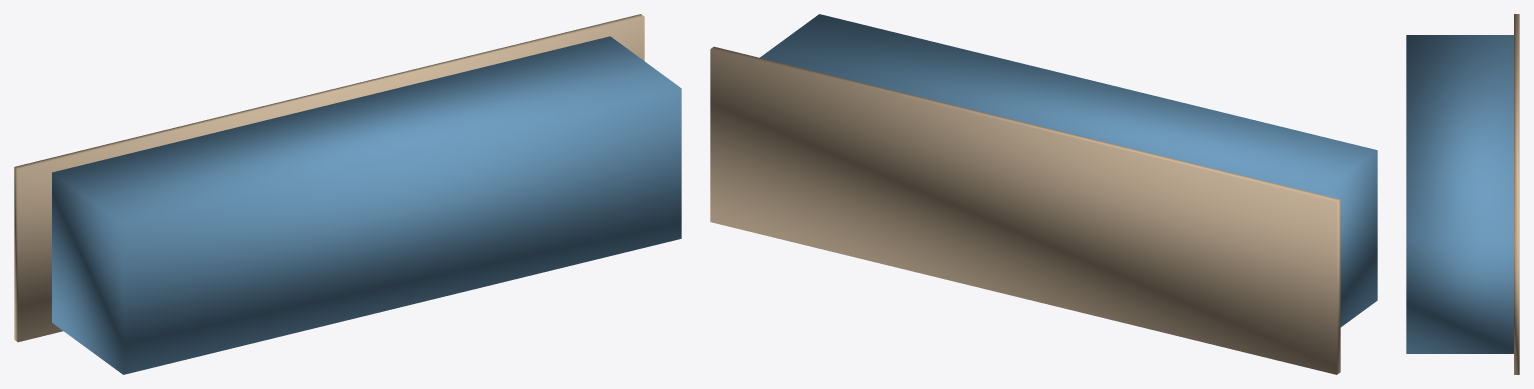
The model's file is asset34.glb.
3 views of the same model, side by side, from view 1: azimuth 30°, elevation 25°; view 2: azimuth 150°, elevation 25°; view 3: azimuth 270°, elevation 25° (orthographic). The views are drawn at different scales.
Visible parts, largest first — view 1: Cube1, Cube1_sep7; view 2: Cube1_sep7, Cube1; view 3: Cube1, Cube1_sep7.
Boxes of the visible parts, x1,y1,x2,y2 form: Cube1: (52, 36, 681, 374); Cube1_sep7: (14, 14, 644, 342); Cube1_sep7: (710, 46, 1340, 374); Cube1: (760, 14, 1377, 327); Cube1: (1406, 35, 1513, 353); Cube1_sep7: (1514, 14, 1519, 374).
Size of what is drawn, in the model's own units: 1 by 0.2636 by 0.2072.
